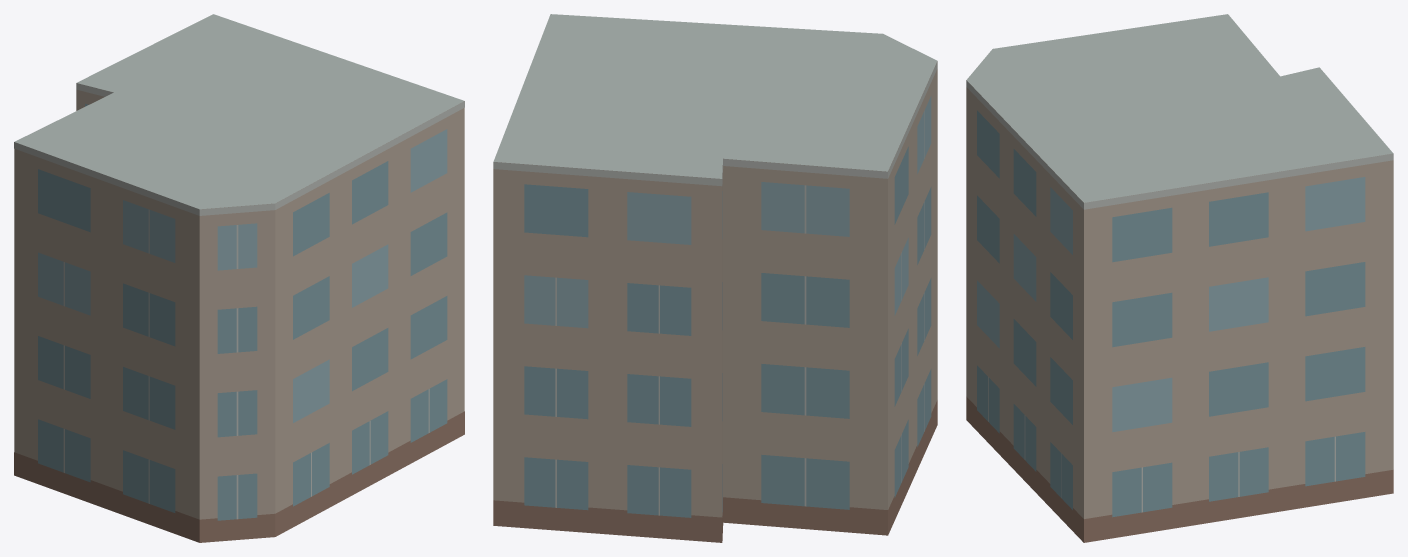
The model's file is survey-upis-32845829.glb.
The picture shows the model from 3 angles, left to right: view 1: azimuth 30°, elevation 25°; view 2: azimuth 150°, elevation 25°; view 3: azimuth 270°, elevation 25°; orthographic projection. The views are drawn at different scales.
Parts seen in each view (by area): view 1: survey-upis-32845829.tmp; view 2: survey-upis-32845829.tmp; view 3: survey-upis-32845829.tmp.
Boxes of the visible parts, <box> form: survey-upis-32845829.tmp: <box>14,14,464,542</box>; survey-upis-32845829.tmp: <box>493,14,937,542</box>; survey-upis-32845829.tmp: <box>966,14,1393,542</box>.
Bounding box in the file's own units: 14.59 × 12.23 × 13.94.
